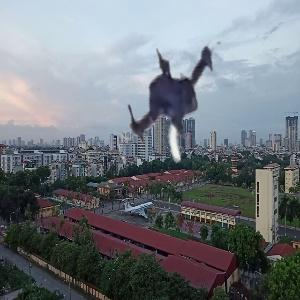drone: (98, 32, 250, 184)
